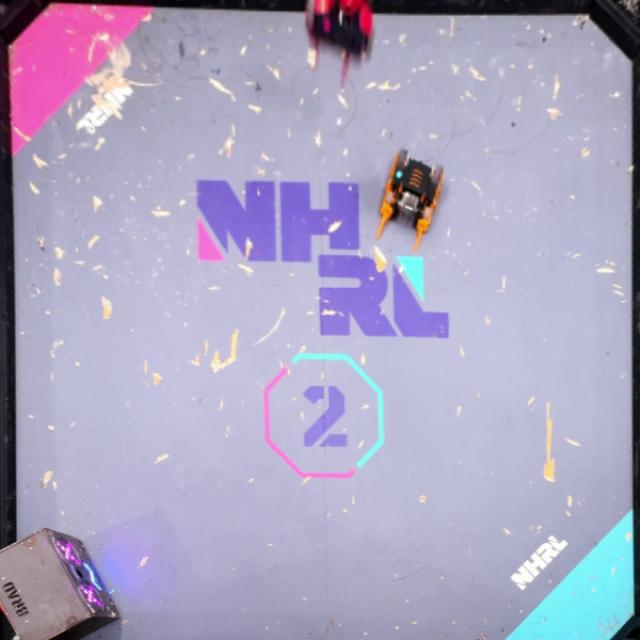housebot: (0, 526, 119, 639)
robot: (377, 146, 443, 251), (304, 0, 372, 91)
